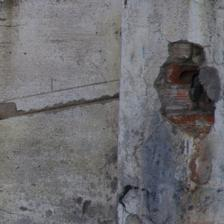Crack: (151, 40, 221, 140), (3, 89, 120, 125), (120, 182, 156, 223)
